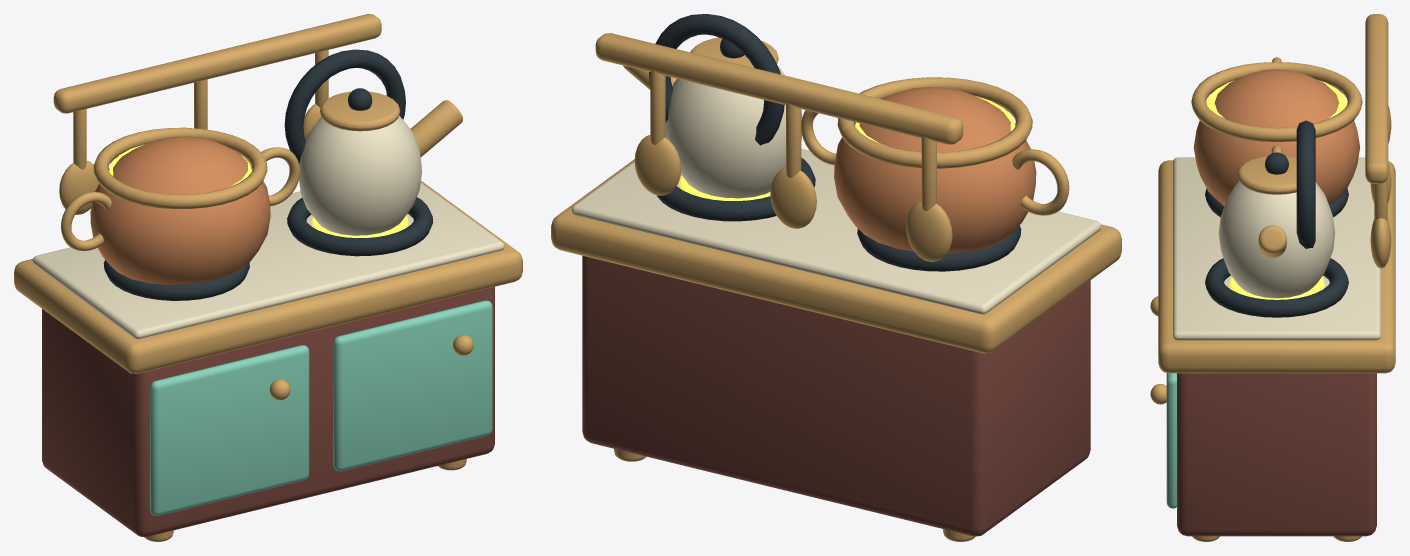
Rendered from galley.glb.
3 renders of one model, left to right at view 1: azimuth 30°, elevation 25°; view 2: azimuth 150°, elevation 25°; view 3: azimuth 270°, elevation 25°, orthographic. The views are drawn at different scales.
Parts seen in each view (by area): view 1: Mint enamel, Warm brushed brass, Galley cabinet, Ivory ceramic, Copper soup pot, Cast iron, Warm hearth; view 2: Galley cabinet, Warm brushed brass, Ivory ceramic, Copper soup pot, Cast iron, Warm hearth; view 3: Galley cabinet, Warm brushed brass, Ivory ceramic, Copper soup pot, Cast iron, Mint enamel, Warm hearth.
Part boxes in pixels (<box>): Mint enamel: <box>150,300,492,515</box>; Warm brushed brass: <box>14,14,522,541</box>; Galley cabinet: <box>42,287,494,536</box>; Ivory ceramic: <box>32,115,504,338</box>; Copper soup pot: <box>90,136,270,285</box>; Cast iron: <box>103,49,433,300</box>; Warm hearth: <box>109,144,408,238</box>; Galley cabinet: <box>582,255,1090,536</box>; Warm brushed brass: <box>551,33,1121,541</box>; Ivory ceramic: <box>571,65,1101,314</box>; Copper soup pot: <box>834,87,1036,253</box>; Cast iron: <box>649,14,1021,271</box>; Warm hearth: <box>679,96,1015,201</box>; Galley cabinet: <box>1177,373,1376,536</box>; Warm brushed brass: <box>1150,14,1395,541</box>; Ivory ceramic: <box>1173,157,1380,340</box>; Copper soup pot: <box>1193,69,1360,206</box>; Cast iron: <box>1205,120,1348,317</box>; Mint enamel: <box>1166,373,1176,508</box>; Warm hearth: <box>1206,80,1346,299</box>.
Bounding box in the file's own units: 1.11 × 1.02 × 0.589.
